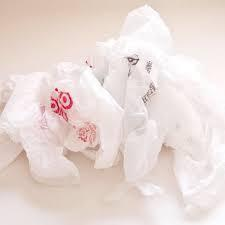Plastic bag: (1, 3, 225, 225)
